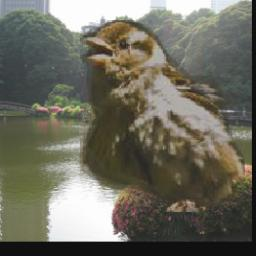Sparrow: (81, 20, 246, 212)
